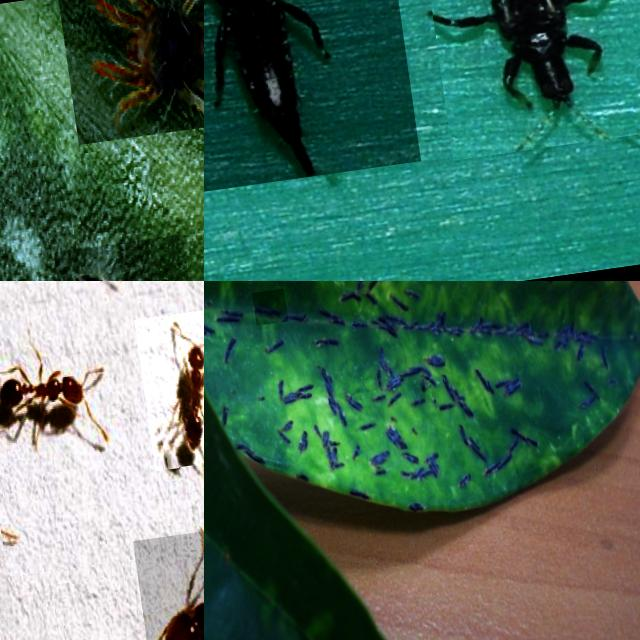GynaikothripsFicorum: (204, 0, 421, 196), (400, 0, 640, 160)
IschnaspisLongirostris: (447, 422, 498, 469), (311, 418, 350, 479), (370, 344, 407, 406), (268, 369, 320, 411), (486, 363, 532, 409), (501, 413, 546, 460), (376, 413, 410, 457), (252, 288, 288, 326), (425, 342, 452, 373), (312, 331, 344, 356), (525, 281, 567, 297)
OligonychusMangiferus: (58, 0, 204, 145), (53, 235, 204, 281)
SolenopsisGeminate: (0, 329, 118, 464), (134, 306, 204, 471), (133, 522, 204, 640)
